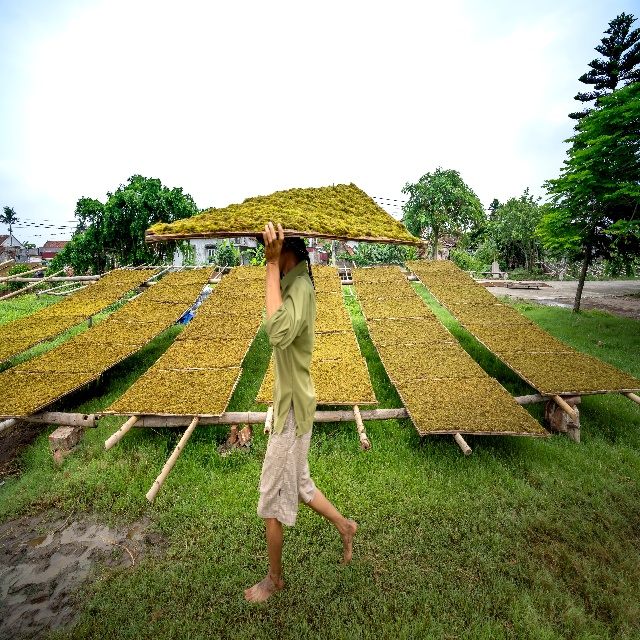Sin_guantes: (262, 222, 284, 265)
